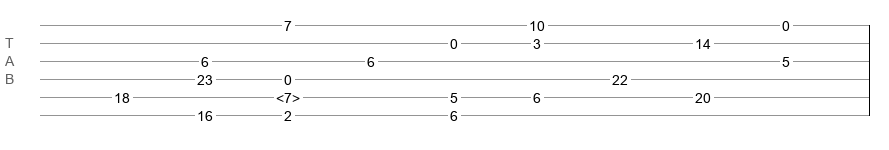0: (284, 72, 292, 82), (450, 36, 458, 46), (782, 18, 790, 28)
10: (529, 18, 545, 28)
14: (695, 36, 711, 46)
16: (197, 108, 213, 118)
18: (114, 90, 130, 100)
2: (284, 108, 292, 118)
20: (695, 90, 711, 100)
22: (612, 72, 628, 82)
23: (197, 72, 213, 82)
3: (533, 36, 541, 46)
5: (450, 90, 458, 100), (782, 54, 790, 64)
6: (201, 54, 209, 64), (367, 54, 375, 64), (450, 108, 458, 118), (533, 90, 541, 100)
7: (284, 18, 292, 28)
harmonic: (276, 90, 300, 100)
